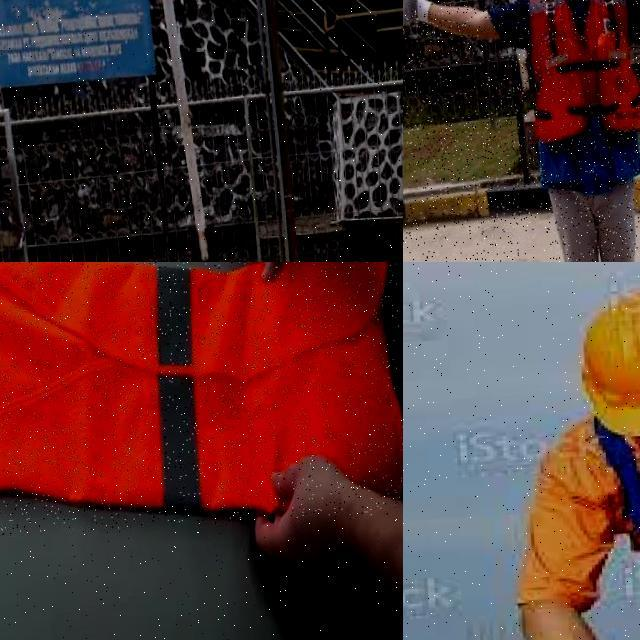helmet: (561, 277, 640, 445)
vest: (0, 262, 403, 540), (526, 0, 640, 189)
